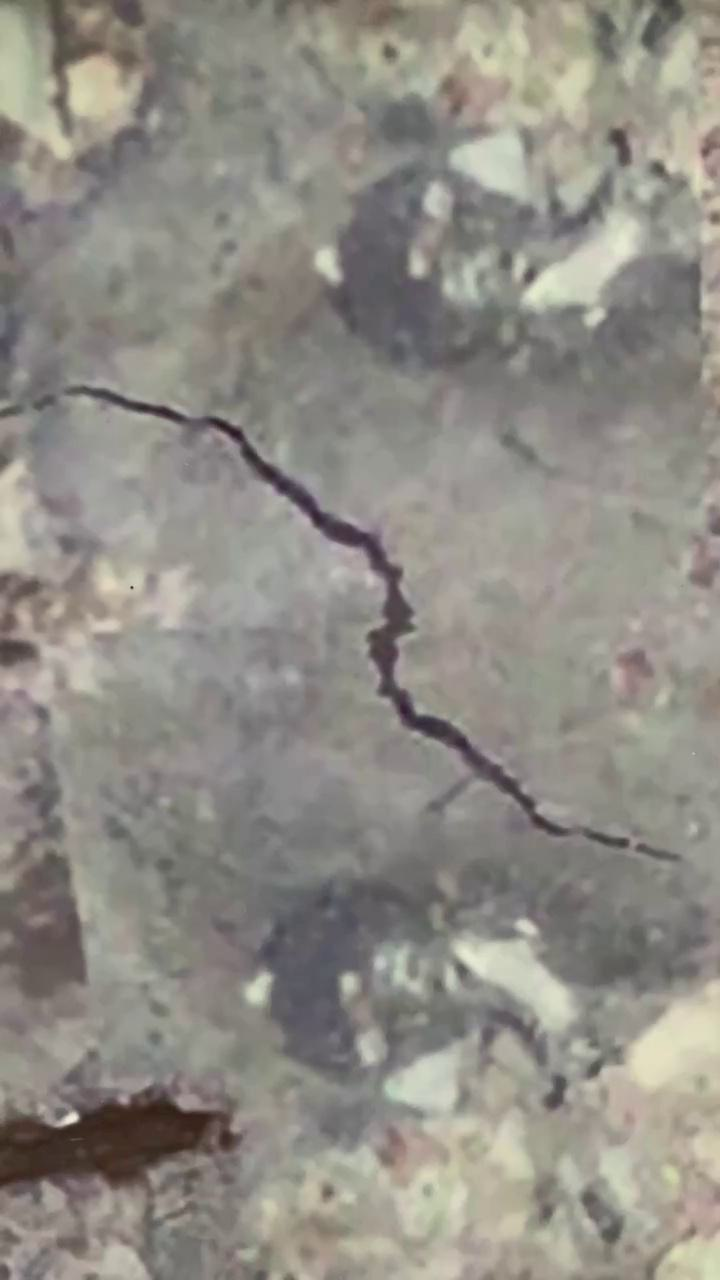Crack: (1, 384, 680, 866)
Exposed reinforcement: (1, 1106, 226, 1185)
